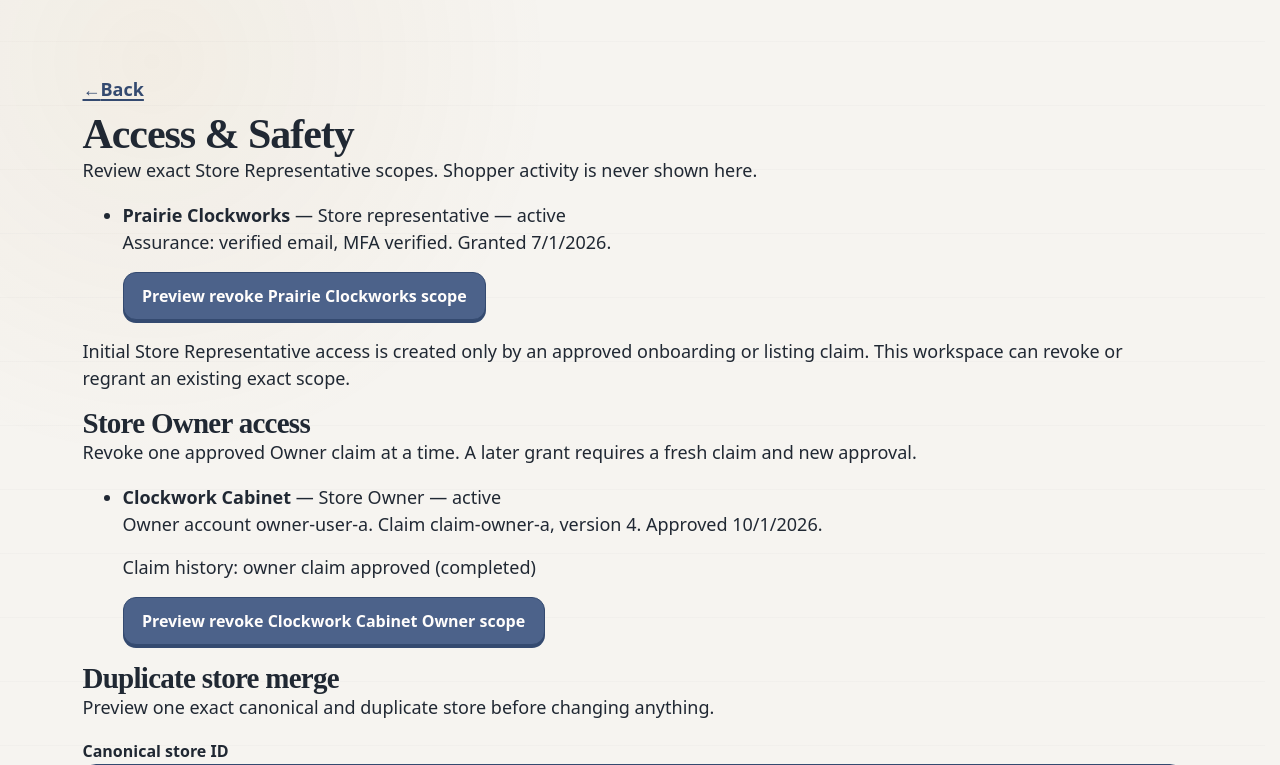
Test: Administrator workspace › requires an exact preview to revoke one Owner claim and offers no Owner regrant
This screenshot has width=1280, height=765.
Expected: the text "Clockwork Cabinet" is shown, [122, 485, 291, 509]
Expected: the text "Claim history: owner claim approved (completed)" is shown, [122, 555, 536, 579]
Click the button "Preview revoke Clockwork Cabinet Owner scope".
click(334, 621)  # box [122, 597, 544, 645]
(page scrolled)
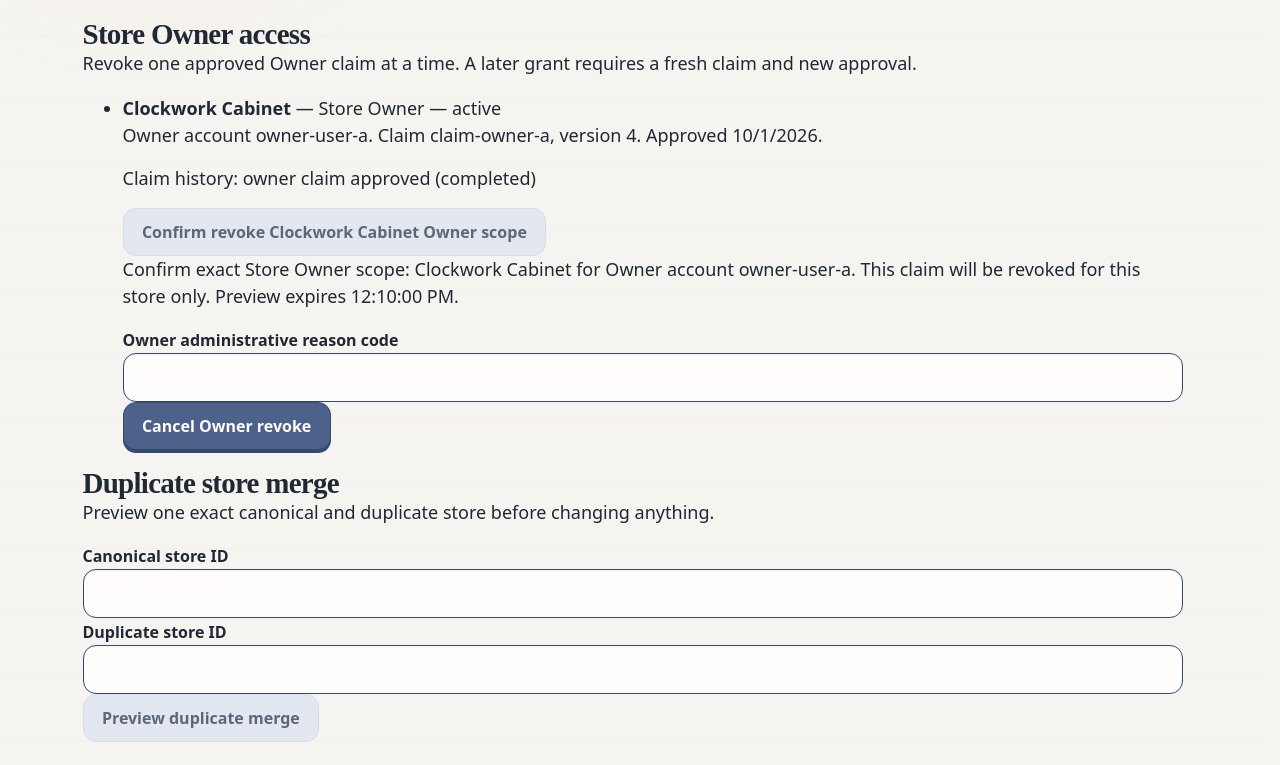
Expected: the text "Confirm exact Store Owner scope: Clockwork Cabinet for Owner account owner-user-a" is shown, [122, 256, 1182, 310]
Type "authority_withdrawn" into the field labelled "Owner administrative reason code".
click(652, 378); type("authority_withdrawn")  # box [122, 353, 1182, 402]
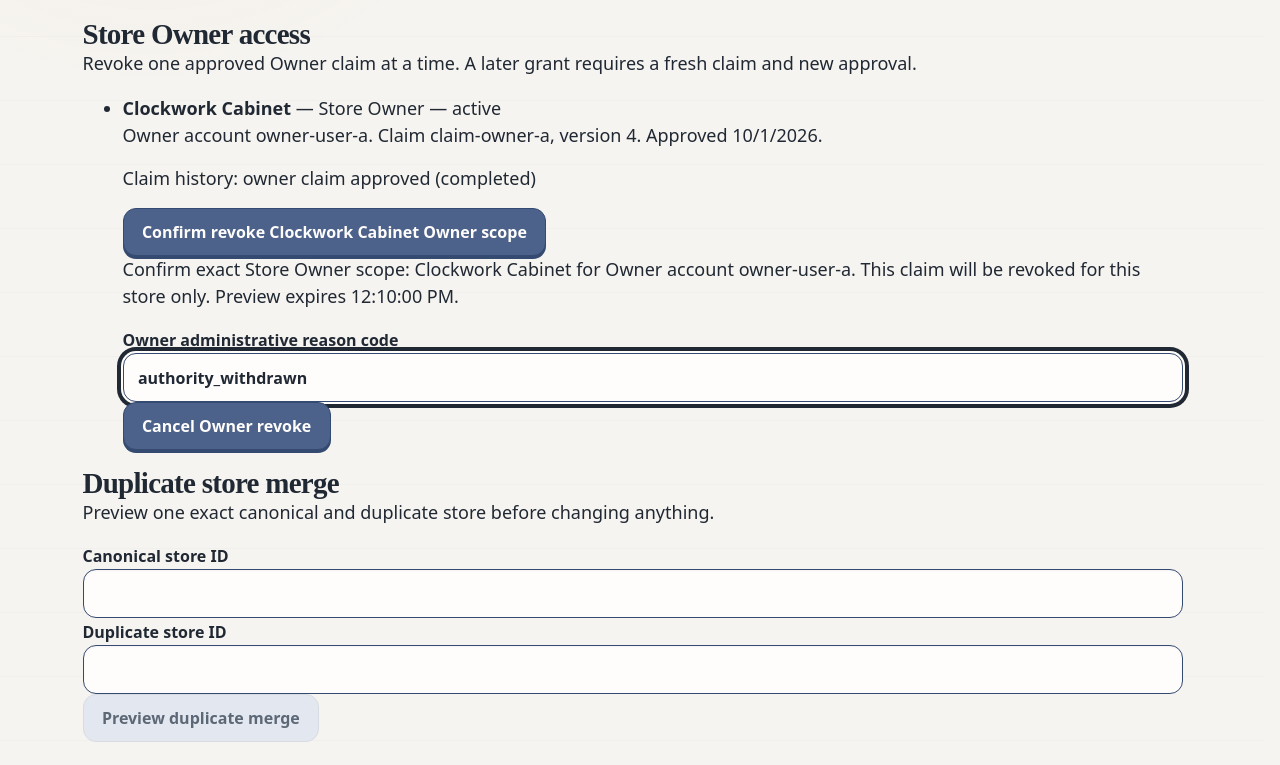
Click the button "Confirm revoke Clockwork Cabinet Owner scope".
click(334, 232)  # box [122, 208, 546, 256]
(page scrolled)
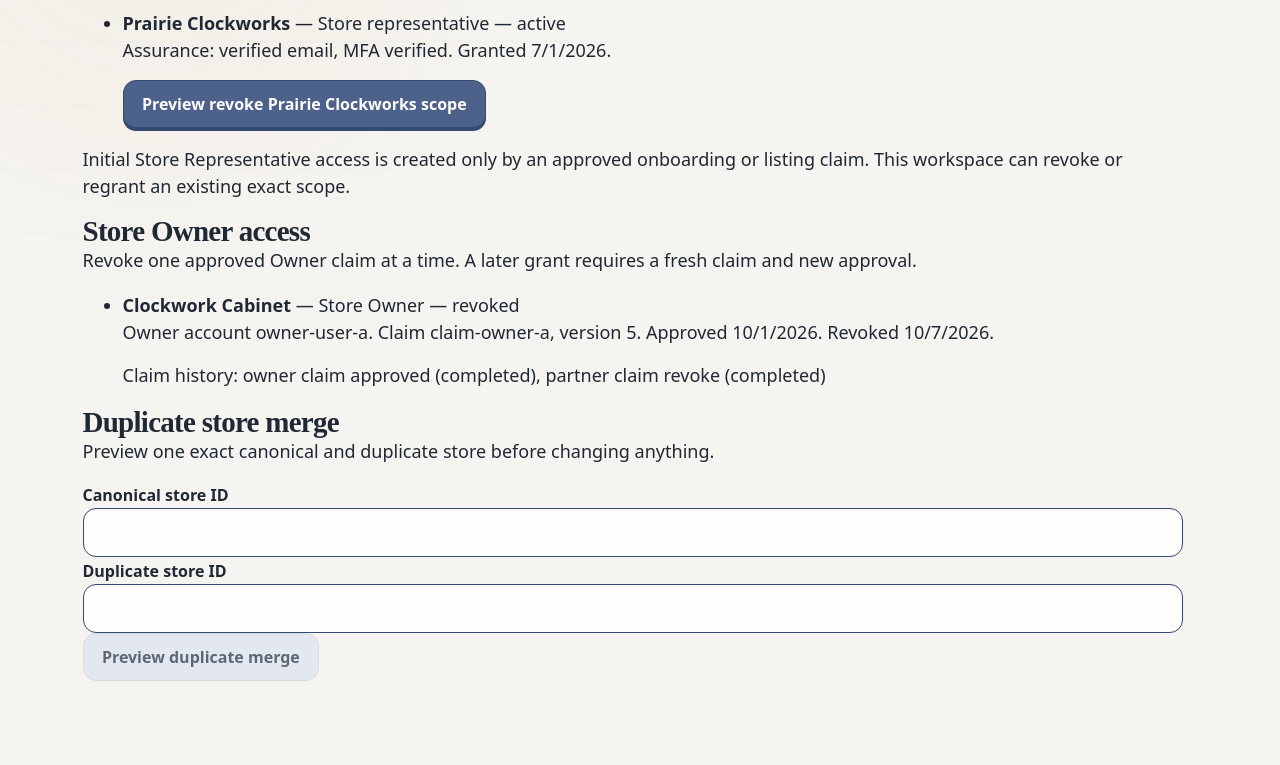
Expected: the list item that starts with "Clockwork Cabinet" shows "claim-owner-a, version 5.", [122, 293, 994, 387]
Expected: the list item that starts with "Clockwork Cabinet" shows "Store Owner — revoked", [122, 293, 994, 387]
Expected: the button "Confirm revoke Clockwork Cabinet Owner scope" is gone
